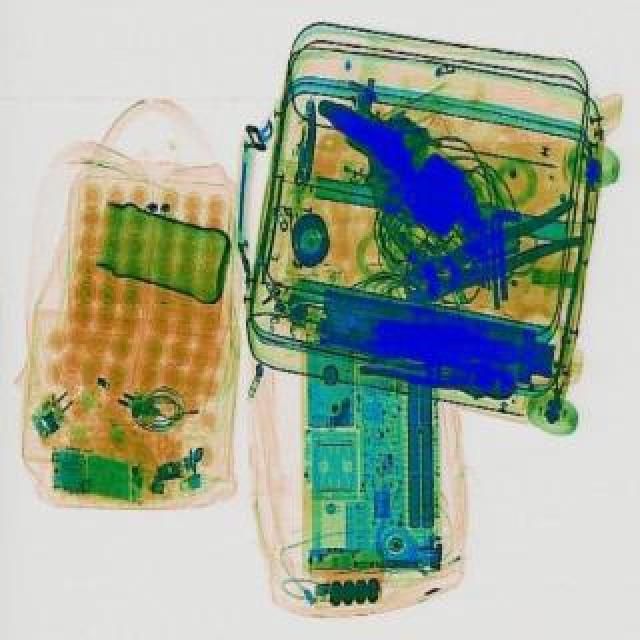wrench: (394, 198, 592, 312)
